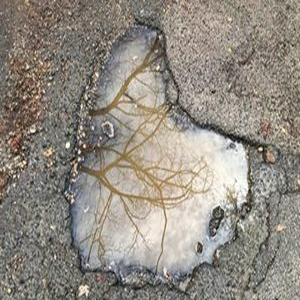pothole: (58, 17, 267, 292)
